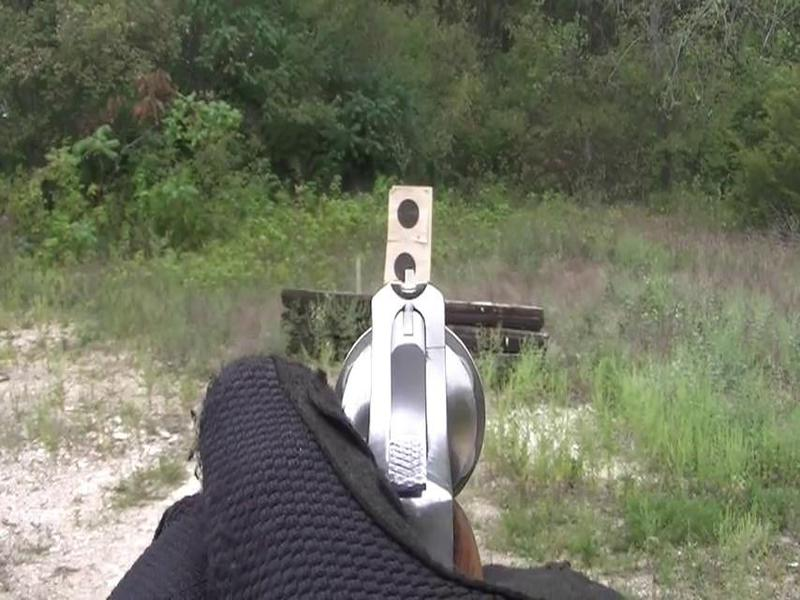Revolver: (353, 251, 493, 557)
